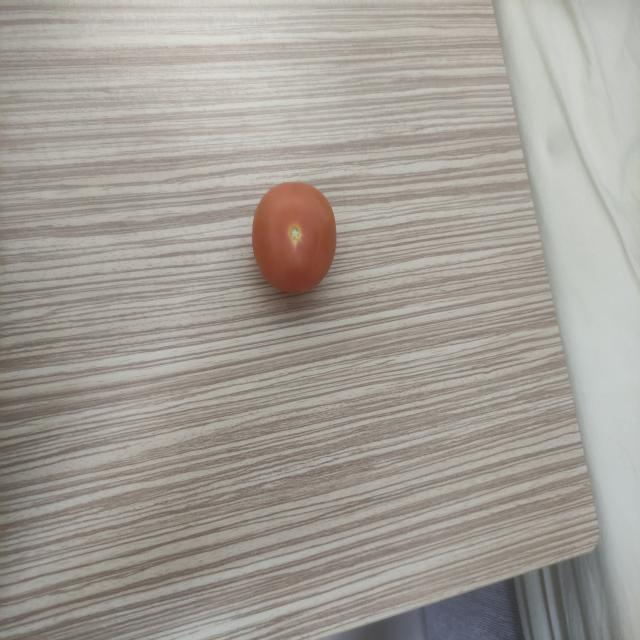sari: (246, 185, 349, 302)
